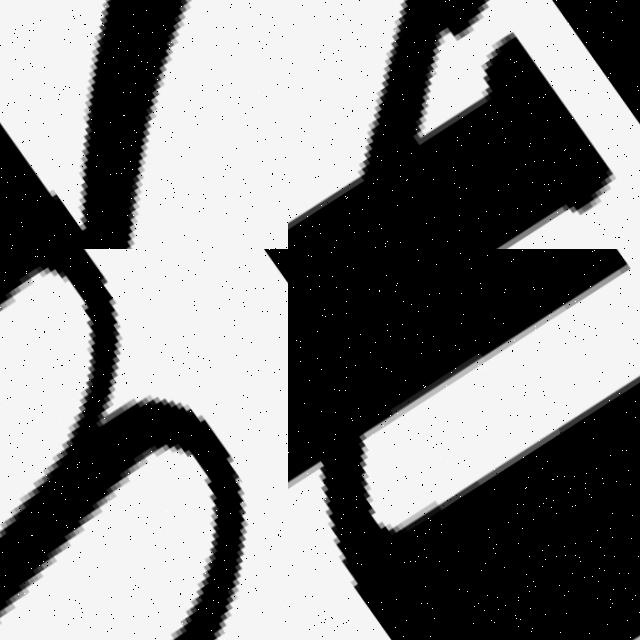7: (0, 0, 288, 249)
H: (288, 249, 640, 640)
W: (0, 249, 288, 640)
X: (288, 0, 640, 249)
